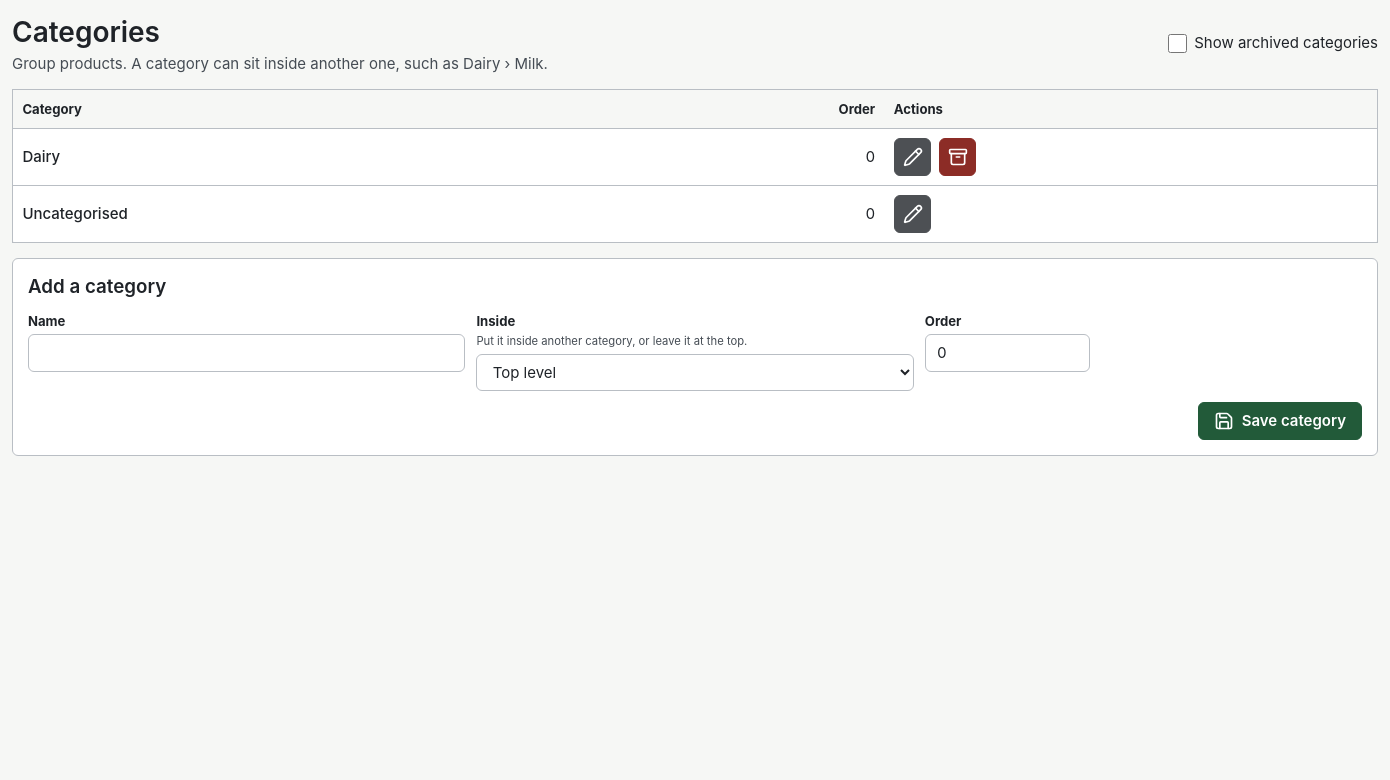
Units, Categories and Brands (fake bridge) › cat_03: a sub-category shows under its parent; a category with sub-categories can't be archived
Expected: the text "Dairy" is shown, [22,147,60,166]
Type "Milk" into the field labelled "Name" at (247, 353), box [28,334,465,372]
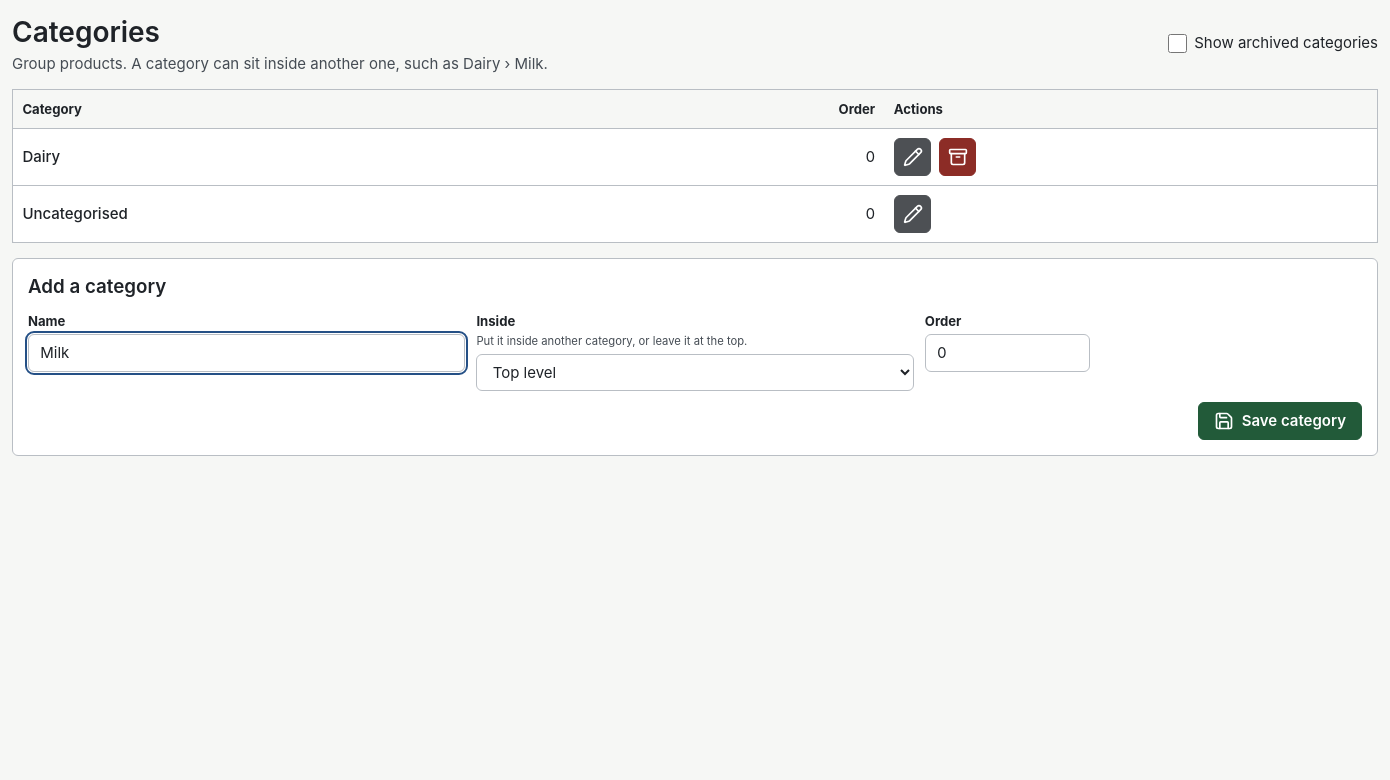
Select "Dairy" in the dropdown labelled "Inside" at (695, 372), box [476,354,914,391]
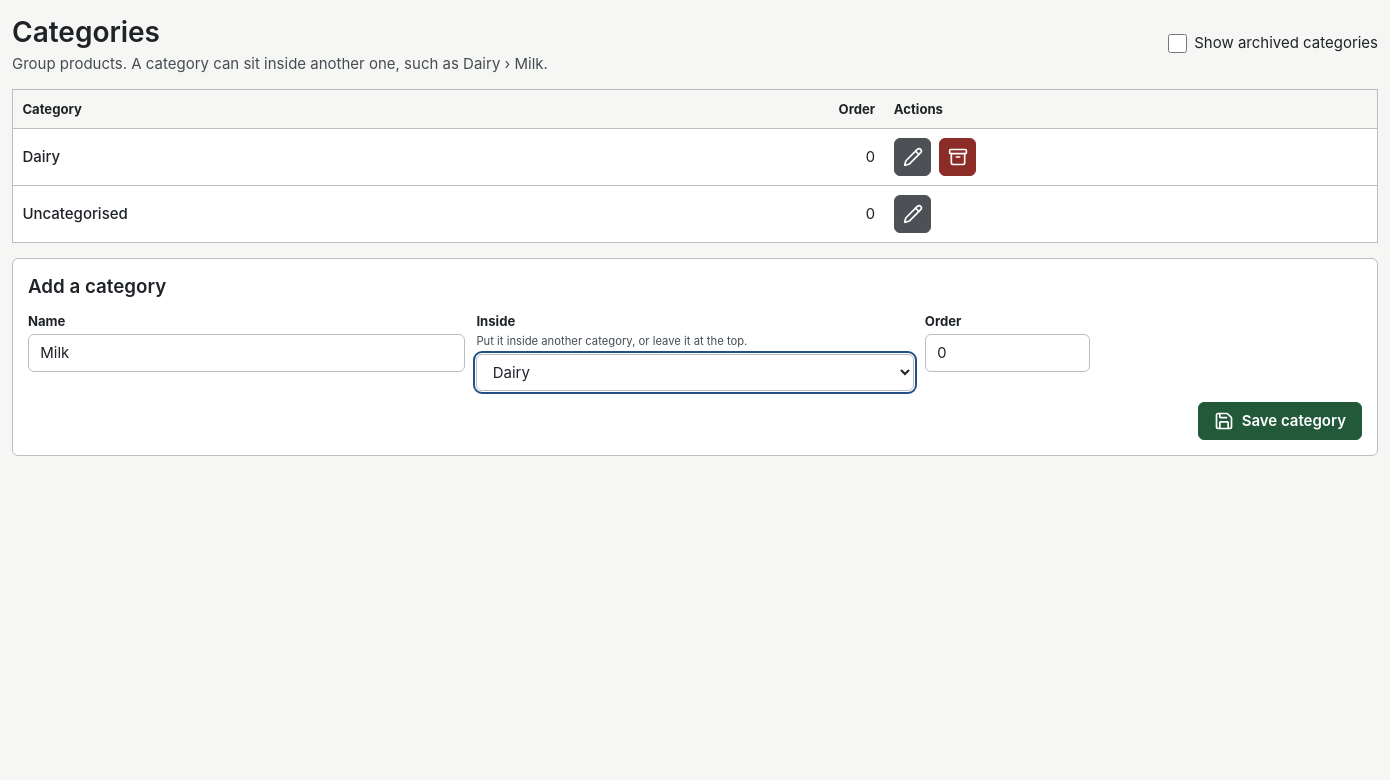
Click the button "Save category" at (1280, 421), box [1198,402,1362,440]
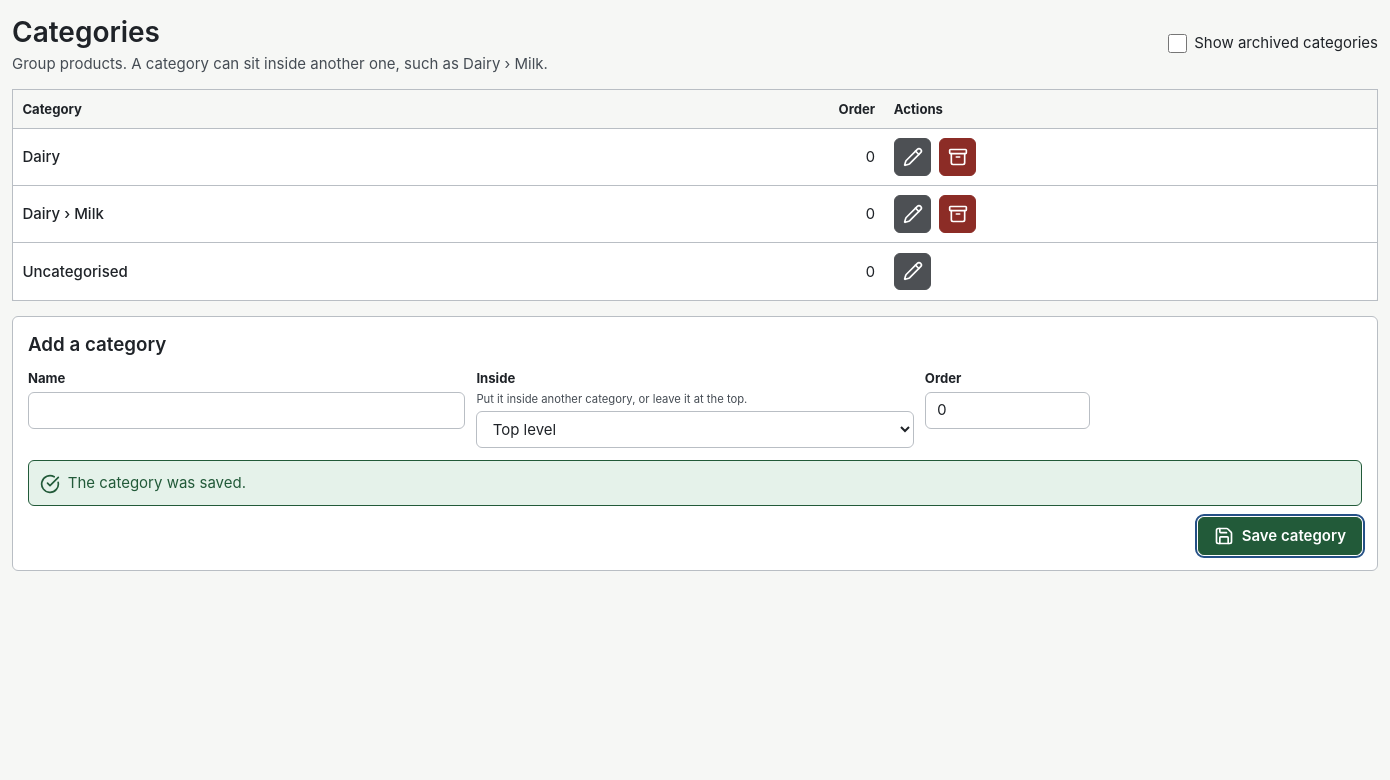
Now the text "Dairy › Milk" is shown, box [22,204,104,223]
Click the button named "Archive this category. Refused while it has products or sub-" at (958, 157), box [939,138,976,176]
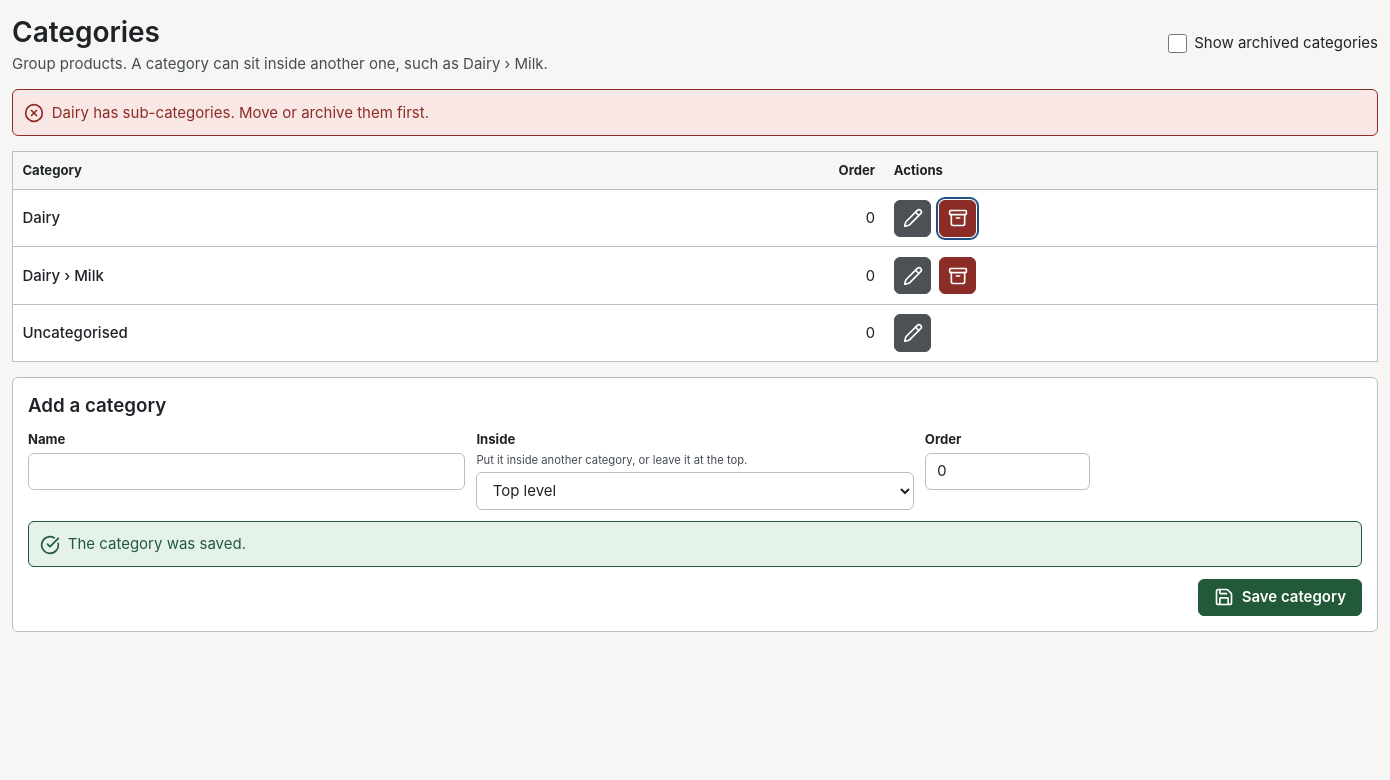
Now the text "Dairy has sub-categories. Move or archive them first." is shown, box [52,102,429,123]
